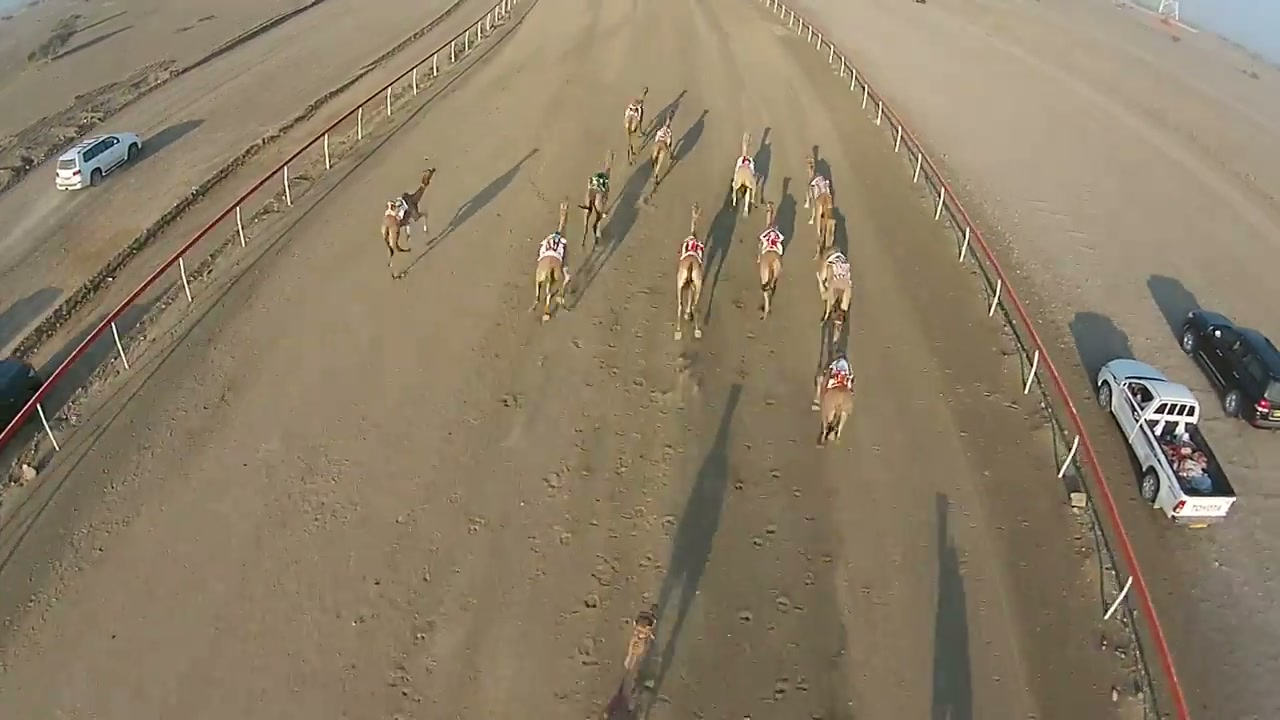animal_foot_print: (2, 307, 271, 678), (322, 322, 573, 719), (537, 306, 700, 713), (708, 302, 851, 719)
